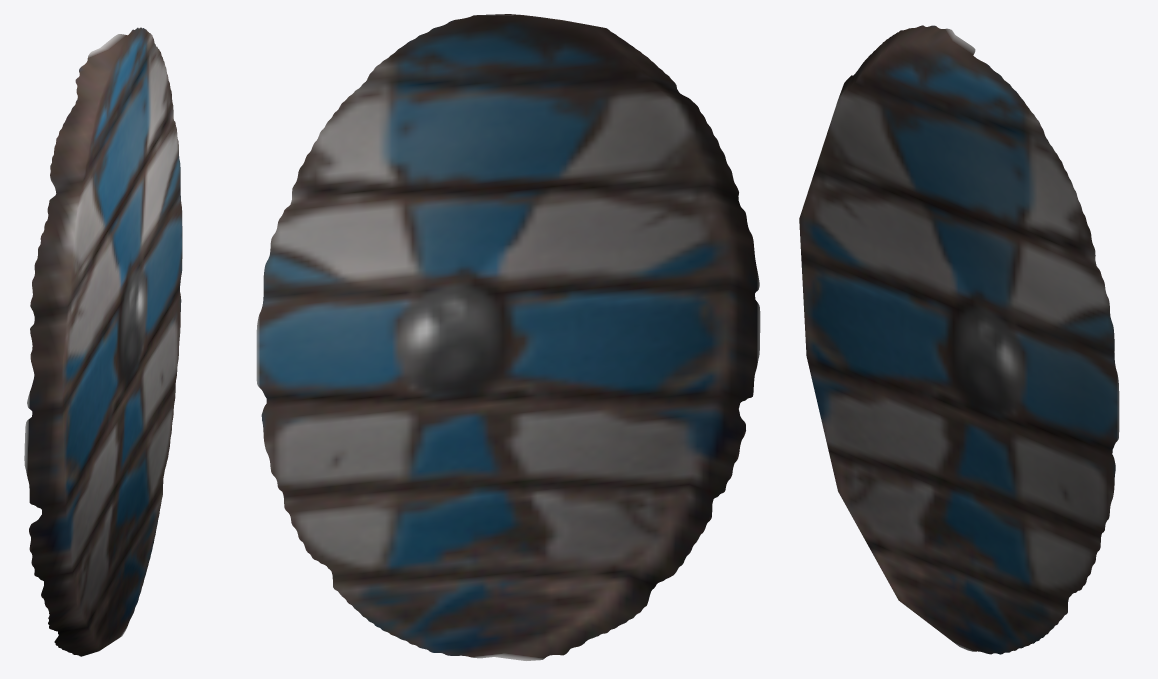
Rendered from Shield.FBX.
3 views of the same model, side by side, from view 1: azimuth 30°, elevation 25°; view 2: azimuth 150°, elevation 25°; view 3: azimuth 270°, elevation 25° (orthographic). The views are drawn at different scales.
Parts seen in each view (by area): view 1: Shield; view 2: Shield; view 3: Shield.
Boxes of the visible parts, bbox=[...] form: Shield: bbox=[24, 27, 182, 656]; Shield: bbox=[256, 14, 760, 660]; Shield: bbox=[799, 25, 1119, 654].
Size of the model in its own units: 53 by 45.85 by 89.99.
